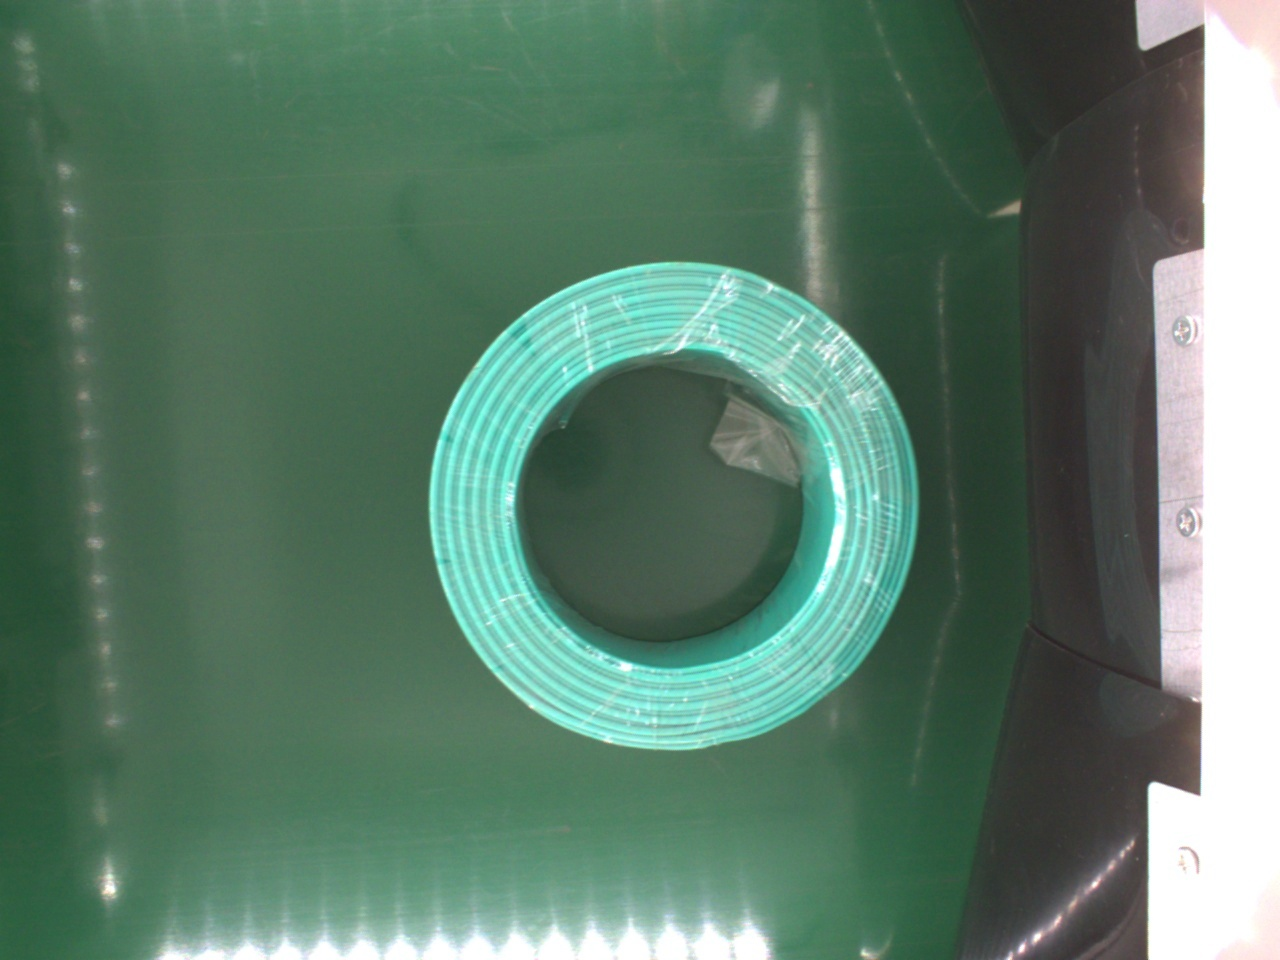green: (424, 260, 921, 754)
